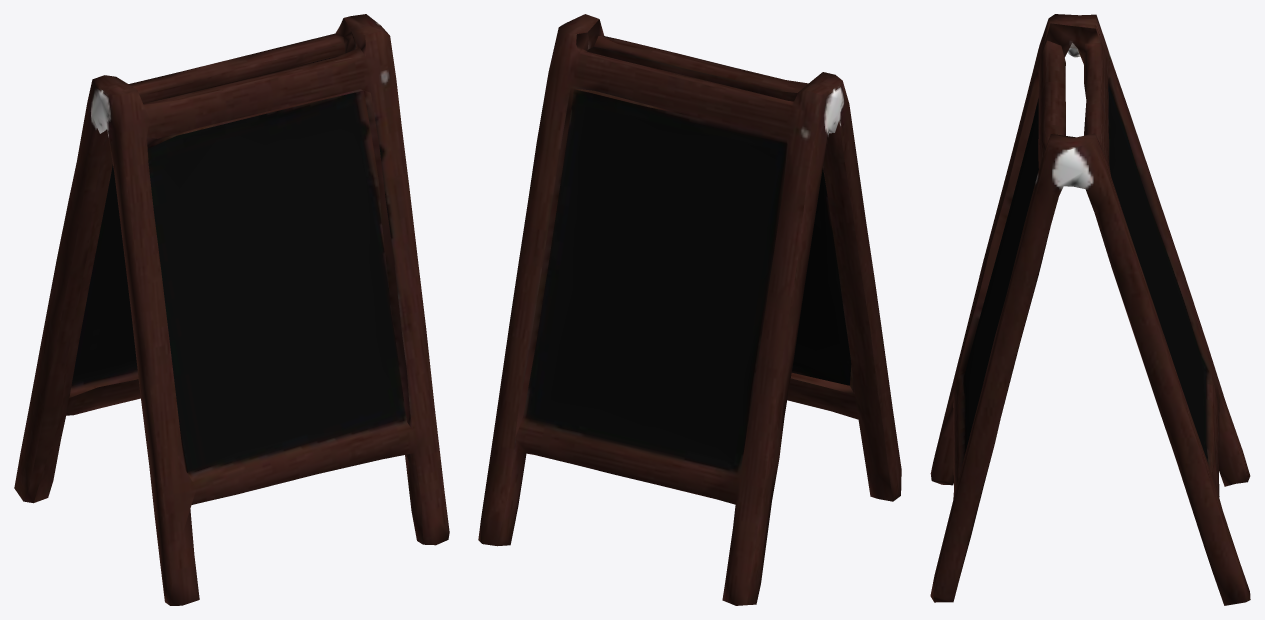
Rendered from street-aframe.glb.
The picture shows the model from 3 angles, left to right: view 1: azimuth 30°, elevation 25°; view 2: azimuth 150°, elevation 25°; view 3: azimuth 270°, elevation 25°; orthographic projection. The views are drawn at different scales.
Visible parts, largest first — view 1: Mesh_0.012; view 2: Mesh_0.012; view 3: Mesh_0.012.
Boxes of the visible parts, x1,y1,x2,y2 form: Mesh_0.012: [14, 14, 449, 605]; Mesh_0.012: [478, 14, 901, 605]; Mesh_0.012: [930, 14, 1250, 605].
Bounding box in the file's own units: 0.5893 × 0.95 × 0.5932.
Materials: 1 (1 with a texture image).
